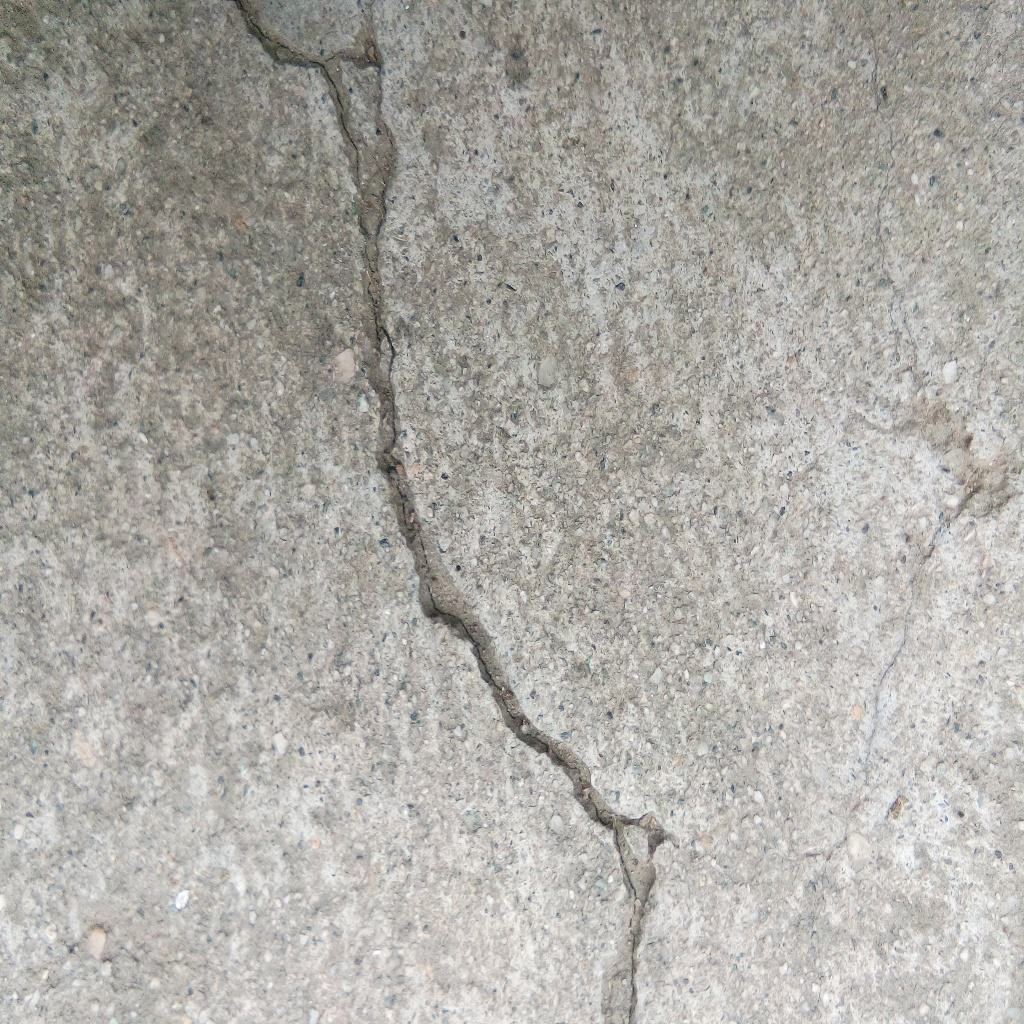Crack: (237, 1, 673, 1024)
